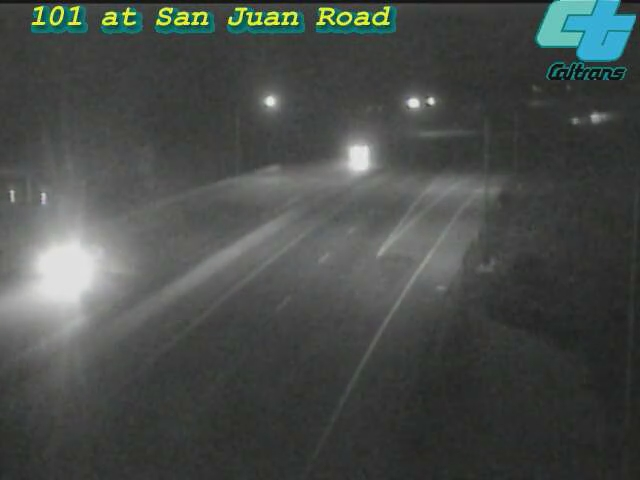vehicle: (26, 229, 106, 309), (311, 120, 391, 200), (575, 91, 625, 141)
